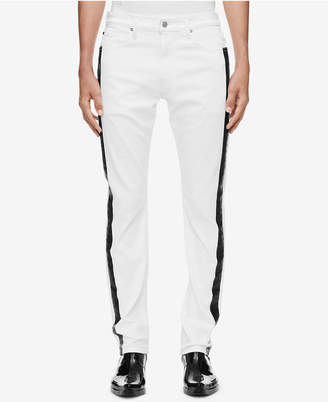jeans: (86, 9, 235, 366)
